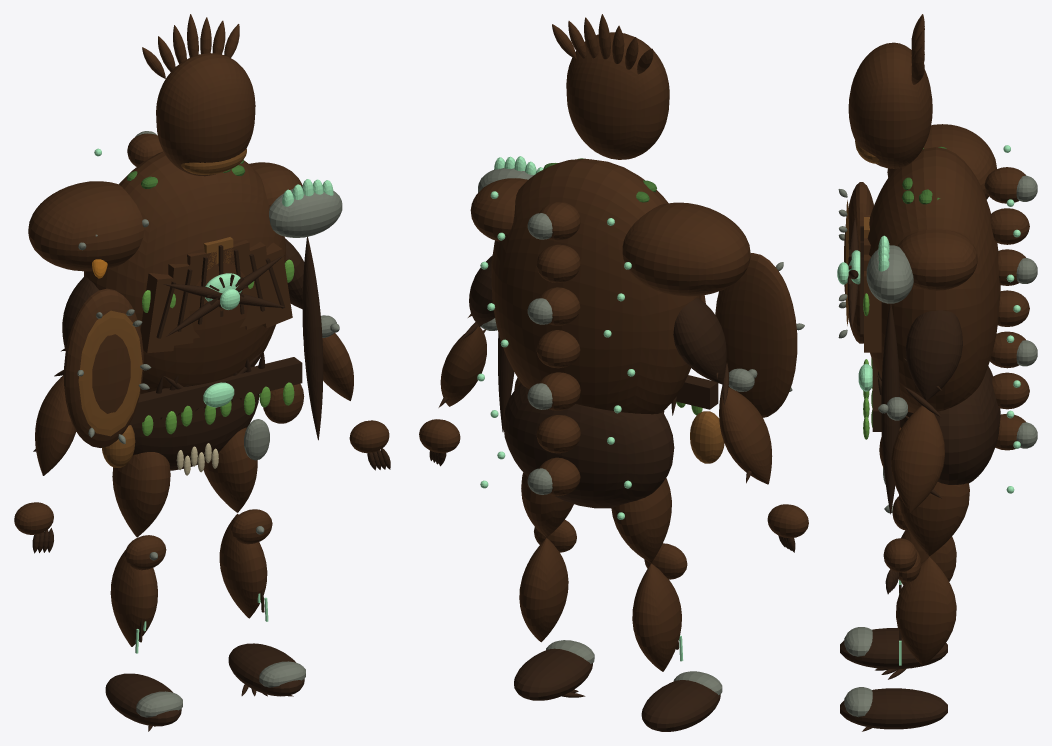
The model's file is warden_class_highpoly_quadmesh_v0.16.04.obj.
3 renders of one model, left to right at view 1: azimuth 30°, elevation 25°; view 2: azimuth 150°, elevation 25°; view 3: azimuth 270°, elevation 25°, orthographic. The views are drawn at different scales.
Visible parts, largest first — view 1: torso_living_bark_core, living_bark_mask, dominant_giant_burl_pauldron, living_tree_cross_section_shield, shield_growth_ring_4, pelvis_root_mesh, woven_root_belt, left_bark_cuisse, left_stone_bark_greave, right_stone_bark_greave, petrified_hammer_handle, geode_hammer_head (+27 smaller); view 2: torso_living_bark_core, pelvis_root_mesh, dominant_giant_burl_pauldron, living_bark_mask, living_tree_cross_section_shield, left_stone_bark_greave, right_stone_bark_greave, left_forearm_vambrace, left_upper_arm_root_core, right_root_cage_sabaton, left_root_cage_sabaton, left_bark_cuisse (+18 smaller); view 3: torso_living_bark_core, living_bark_mask, pelvis_root_mesh, right_stone_bark_greave, right_forearm_vambrace, right_upper_arm_root_core, smaller_bark_scale_pauldron, right_root_cage_sabaton, right_bark_cuisse, petrified_hammer_handle, dominant_giant_burl_pauldron, left_root_cage_sabaton (+22 smaller).
Part boxes in pixels (bbox=[...]): torso_living_bark_core: bbox=[84, 151, 286, 394]; living_bark_mask: bbox=[156, 53, 255, 176]; dominant_giant_burl_pauldron: bbox=[28, 181, 144, 271]; living_tree_cross_section_shield: bbox=[64, 288, 143, 447]; shield_growth_ring_4: bbox=[78, 310, 142, 436]; pelvis_root_mesh: bbox=[131, 394, 259, 470]; woven_root_belt: bbox=[129, 357, 302, 425]; left_bark_cuisse: bbox=[112, 452, 170, 537]; left_stone_bark_greave: bbox=[110, 550, 157, 646]; right_stone_bark_greave: bbox=[219, 513, 267, 618]; petrified_hammer_handle: bbox=[302, 237, 323, 440]; geode_hammer_head: bbox=[269, 186, 342, 237]; torso_living_bark_core: bbox=[491, 158, 701, 414]; pelvis_root_mesh: bbox=[503, 383, 674, 508]; dominant_giant_burl_pauldron: bbox=[622, 202, 750, 296]; living_bark_mask: bbox=[566, 32, 669, 159]; living_tree_cross_section_shield: bbox=[715, 253, 797, 417]; left_stone_bark_greave: bbox=[632, 563, 681, 671]; right_stone_bark_greave: bbox=[519, 538, 568, 642]; left_forearm_vambrace: bbox=[719, 387, 772, 484]; left_upper_arm_root_core: bbox=[673, 298, 726, 384]; right_root_cage_sabaton: bbox=[514, 648, 592, 700]; left_root_cage_sabaton: bbox=[641, 680, 720, 731]; left_bark_cuisse: bbox=[611, 478, 671, 562]; torso_living_bark_core: bbox=[860, 147, 1000, 412]; living_bark_mask: bbox=[848, 42, 932, 168]; pelvis_root_mesh: bbox=[900, 366, 1000, 484]; right_stone_bark_greave: bbox=[896, 557, 956, 665]; right_forearm_vambrace: bbox=[891, 405, 944, 512]; right_upper_arm_root_core: bbox=[905, 310, 962, 400]; smaller_bark_scale_pauldron: bbox=[898, 229, 977, 290]; right_root_cage_sabaton: bbox=[840, 688, 947, 729]; right_bark_cuisse: bbox=[899, 482, 969, 555]; petrified_hammer_handle: bbox=[881, 303, 899, 514]; dominant_giant_burl_pauldron: bbox=[887, 124, 996, 199]; left_root_cage_sabaton: bbox=[840, 628, 947, 669].
Size of the model in its own units: 1.33 by 2.32 by 0.6177.
